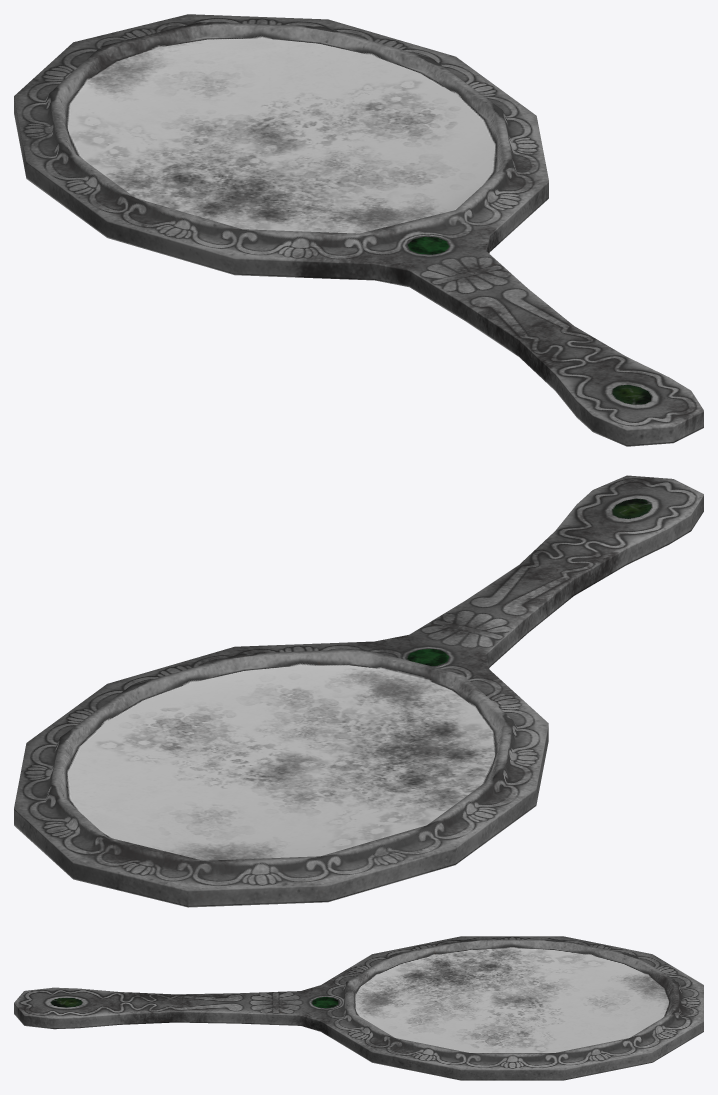
The model's file is mirror.glb.
3 views of the same model, one above another, from view 1: azimuth 30°, elevation 25°; view 2: azimuth 150°, elevation 25°; view 3: azimuth 270°, elevation 25° (orthographic). The views are drawn at different scales.
Visible parts, largest first — view 1: pCylinder5; view 2: pCylinder5; view 3: pCylinder5.
Part boxes in pixels (x1=…): pCylinder5: x1=14, y1=14, x2=703, y2=446; pCylinder5: x1=14, y1=475, x2=703, y2=907; pCylinder5: x1=14, y1=936, x2=703, y2=1080.
Size of the model in its own units: 12.65 by 0.7567 by 27.71.
Materials: 1 (1 with a texture image).
